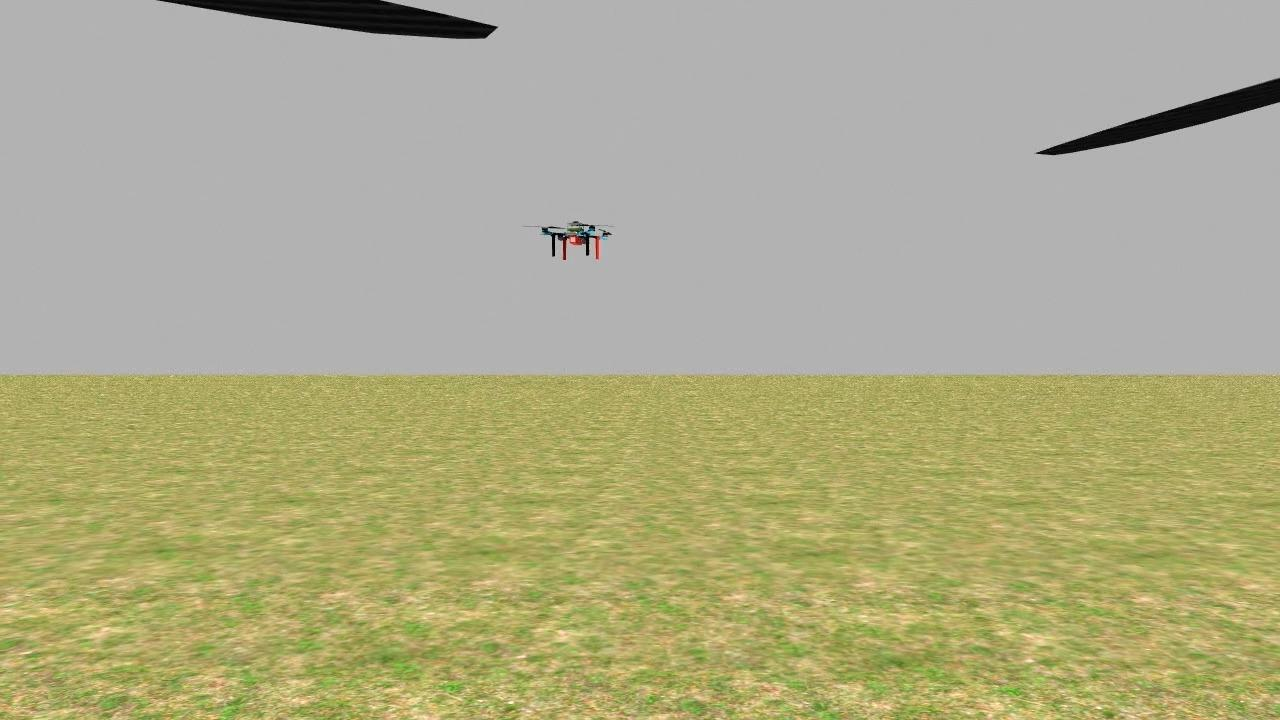UAV: (531, 201, 617, 270)
